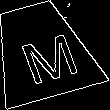M_N: (7, 20, 76, 82)
